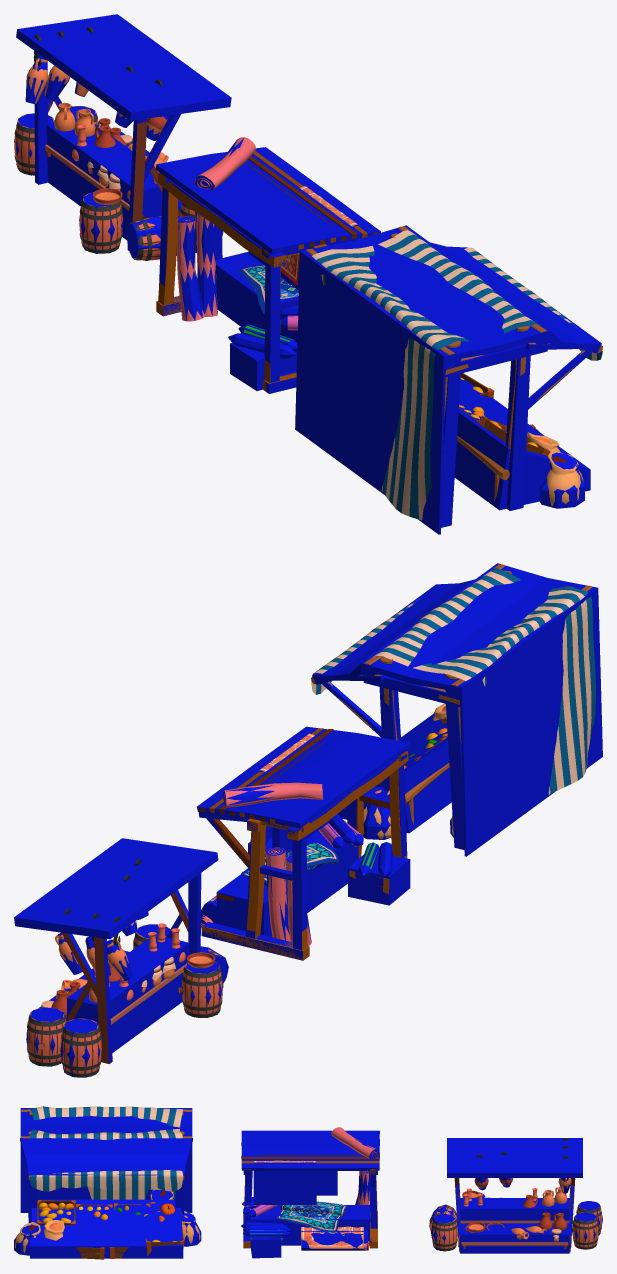
Rendered from Pack_MarketStalls.fbx.
3 views of the same model, one above another, from view 1: azimuth 30°, elevation 25°; view 2: azimuth 150°, elevation 25°; view 3: azimuth 270°, elevation 25° (orthographic). The views are drawn at different scales.
Parts seen in each view (by area): view 1: Cube.056, Cylinder.015, Cube.062, Cube.057, Cylinder.054, Cube.067; view 2: Cube.056, Cylinder.015, Cube.062, Cube.057, Cube.067, Cylinder.054; view 3: Cube.056, Cylinder.015, Cube.062, Cube.057, Cylinder.054, Cube.067.
Boxes of the visible parts, <box> form: Cube.056: <box>295,225,601,534</box>; Cylinder.015: <box>156,137,380,393</box>; Cube.062: <box>14,14,231,258</box>; Cube.057: <box>306,226,602,519</box>; Cylinder.054: <box>14,27,223,260</box>; Cube.067: <box>156,137,378,392</box>; Cube.056: <box>312,563,602,856</box>; Cylinder.015: <box>197,726,410,960</box>; Cube.062: <box>14,838,228,1077</box>; Cube.057: <box>311,564,595,839</box>; Cube.067: <box>199,728,408,960</box>; Cylinder.054: <box>26,859,228,1077</box>; Cube.056: <box>14,1108,201,1258</box>; Cylinder.015: <box>241,1130,379,1258</box>; Cube.062: <box>429,1138,602,1253</box>; Cube.057: <box>15,1106,200,1259</box>; Cylinder.054: <box>429,1138,601,1252</box>; Cube.067: <box>241,1127,379,1250</box>.
Bounding box in the file's own units: 182 × 179 × 865.
